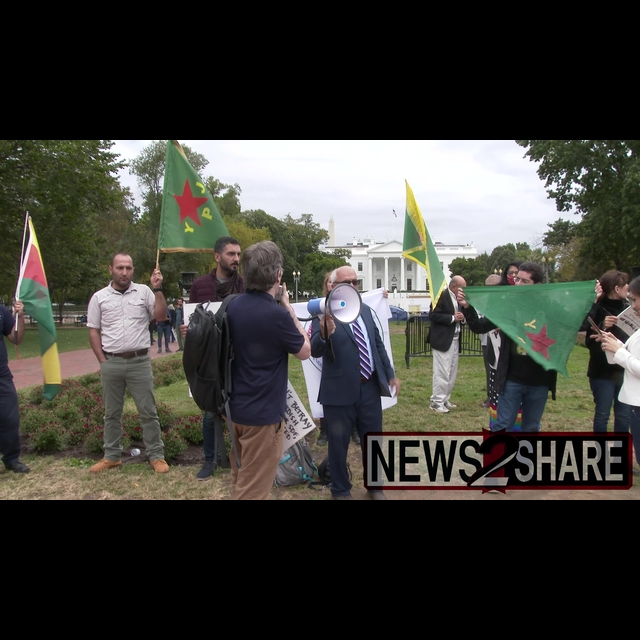YPJ: (166, 173, 215, 241)
